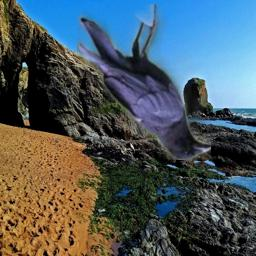Crow: (77, 4, 211, 160)
